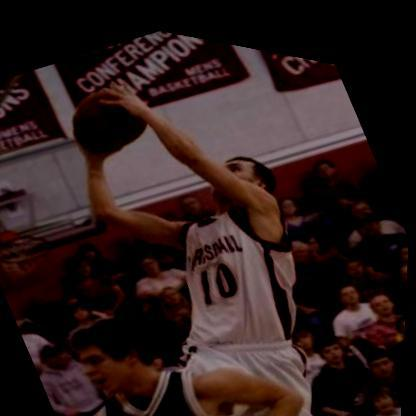basketball: (50, 55, 164, 171)
